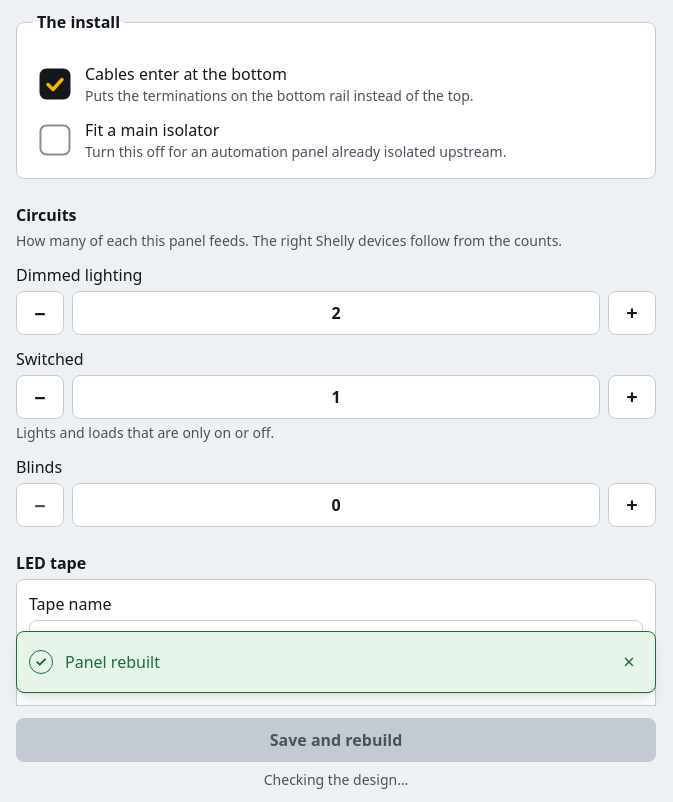
Scenario: EditSubmainPage › ties the warning to the button for a screen reader, and says it politely as it changes
The width and height of the screenshot is (673, 802).
(page scrolled)
Click the button named "fewer switched": (40, 397) [16, 375, 64, 419]
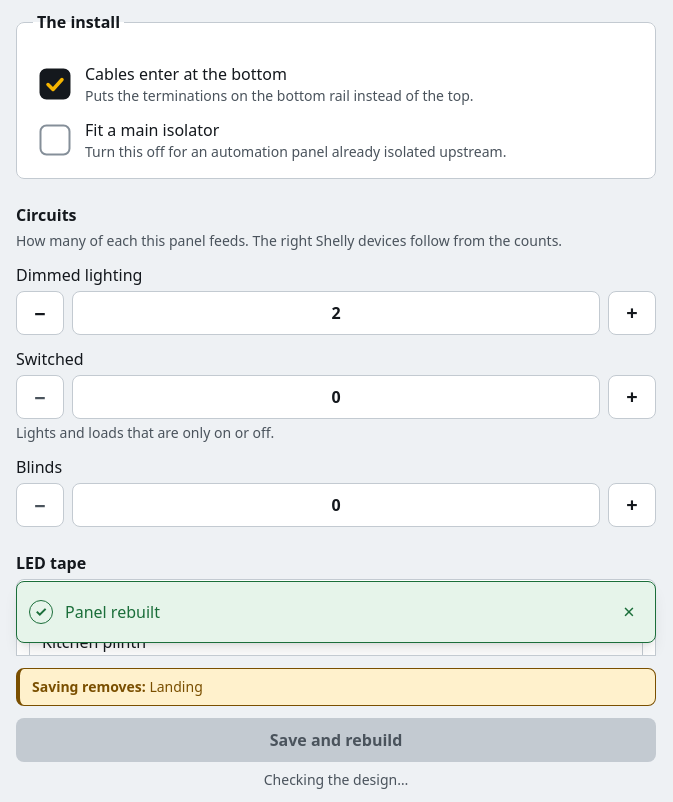
expect the number of messages is 1: met, box [16, 581, 656, 643]
expect the element showing "Saving removes: Landing" is shown: met, box [16, 668, 656, 706]
